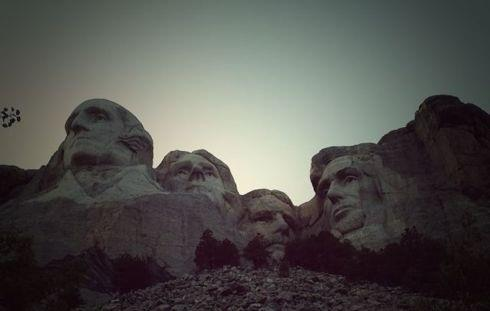Mount_Rushmore: (62, 88, 397, 263)
